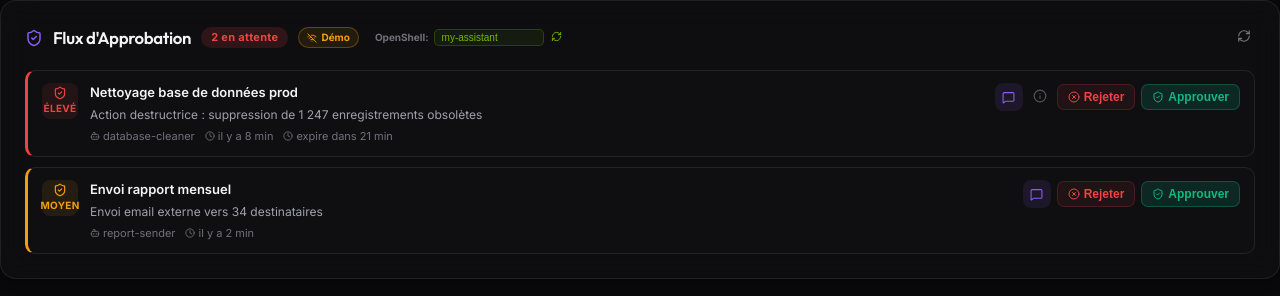
Scenario: ApprovalsWidget — approve / reject actions › removes item from list after approve (optimistic)
expect the text "Nettoyage base de données prod" is shown: met, box [90,84,298,100]
Click the button "Approuver" in the row of "Nettoyage base de données prod": point(1191, 97) [1141,84,1240,110]
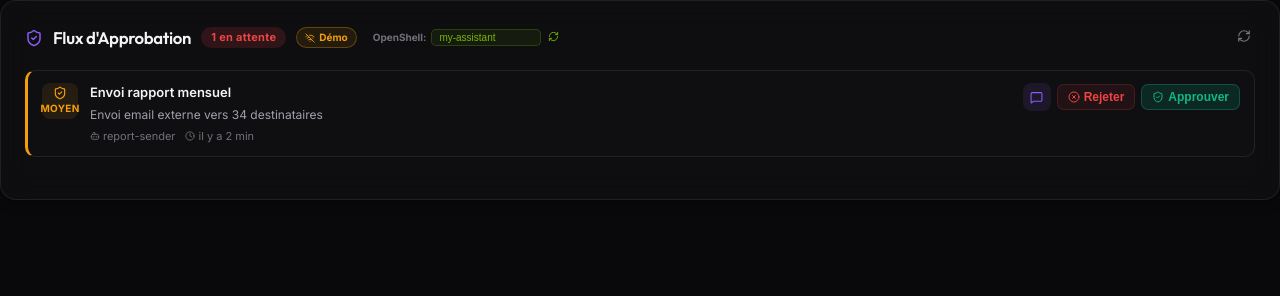
expect the text "Nettoyage base de données prod" is gone: met
